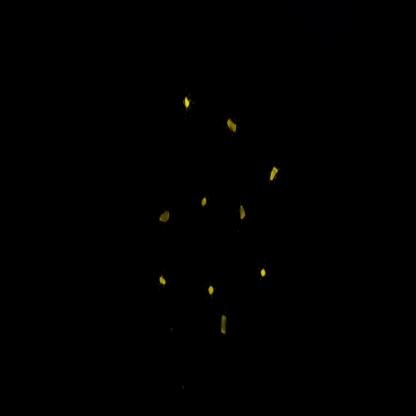PE: (180, 82, 198, 119), (205, 272, 221, 308), (258, 259, 272, 288), (157, 268, 171, 297), (200, 192, 211, 214)
PP: (231, 195, 254, 233), (265, 157, 285, 192), (214, 309, 234, 342), (157, 201, 176, 235), (225, 108, 241, 146)
